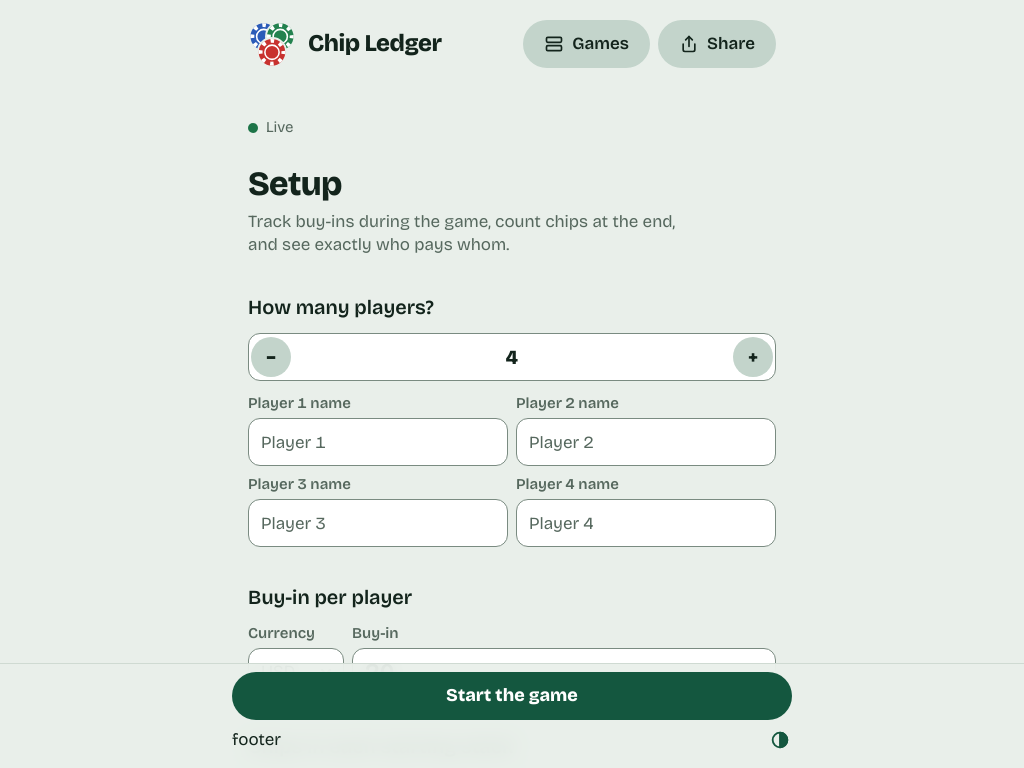
Test: SharedGameApp: setting up and starting (REQ-0003-15) › the host fills in Setup and starts the game; the page moves on to the table
The image size is (1024, 768).
expect the heading "Setup" is shown: met, box x1=248 y1=163 x2=342 y2=204
Type "A" into the field labelled "Player 1 name".
click(378, 442); type("A")  # box x1=248 y1=418 x2=508 y2=466
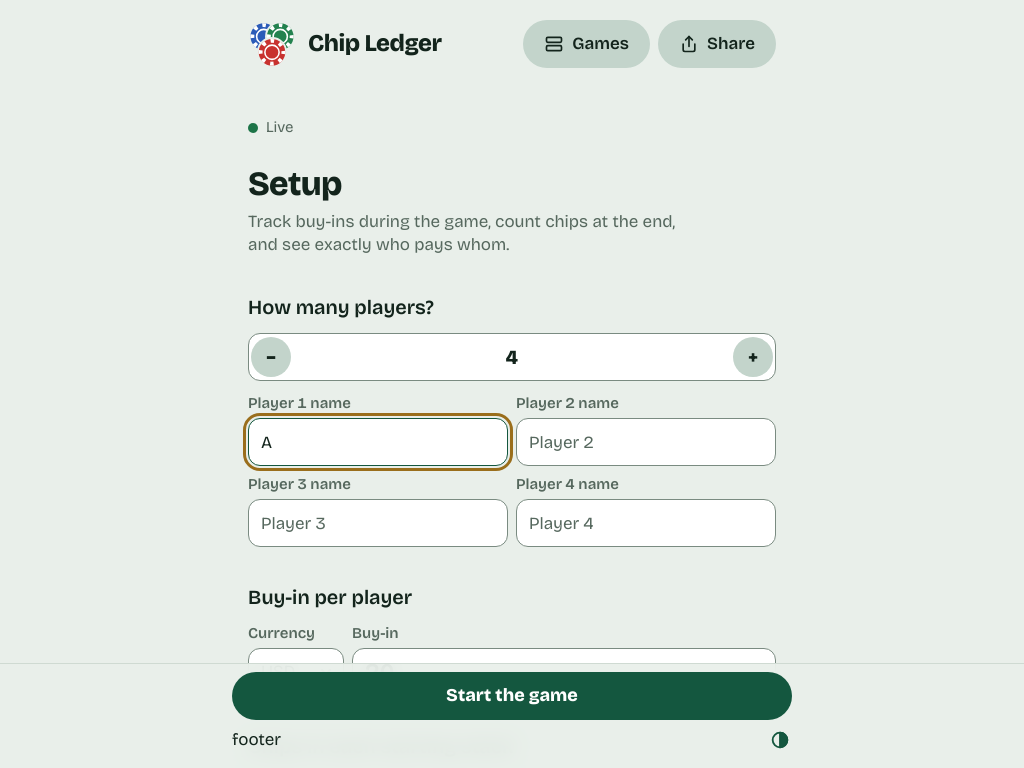
Click the button "Start the game".
click(512, 696)  # box x1=232 y1=672 x2=792 y2=720
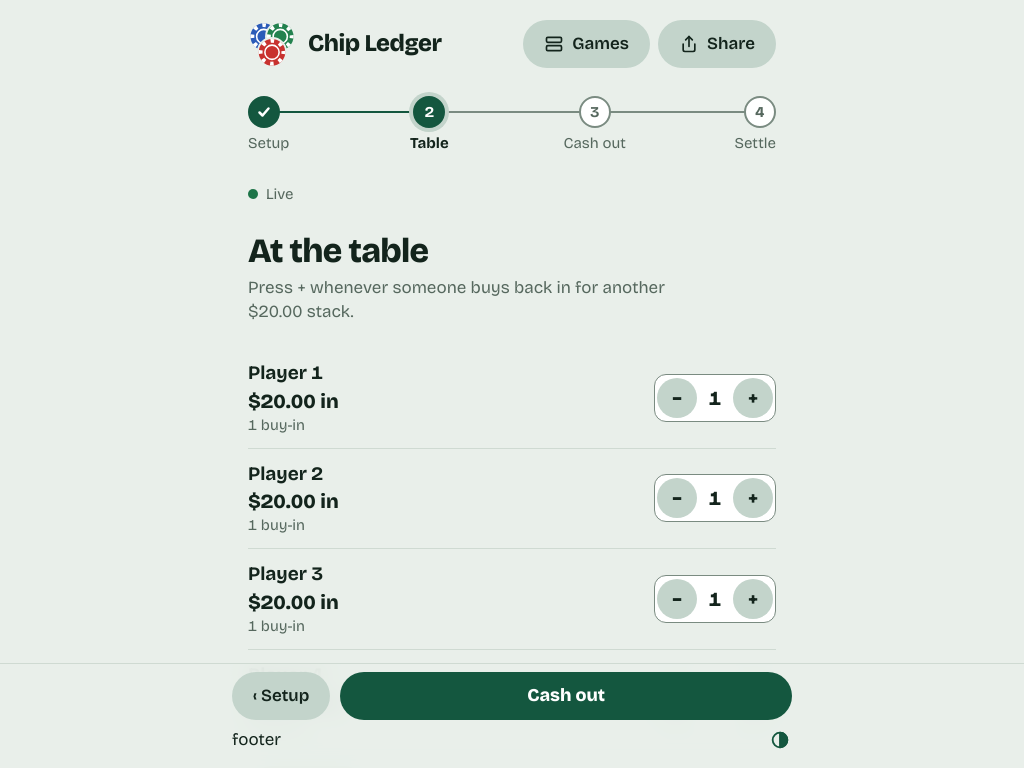
expect the heading reads "At the table": met, box x1=248 y1=230 x2=428 y2=271
